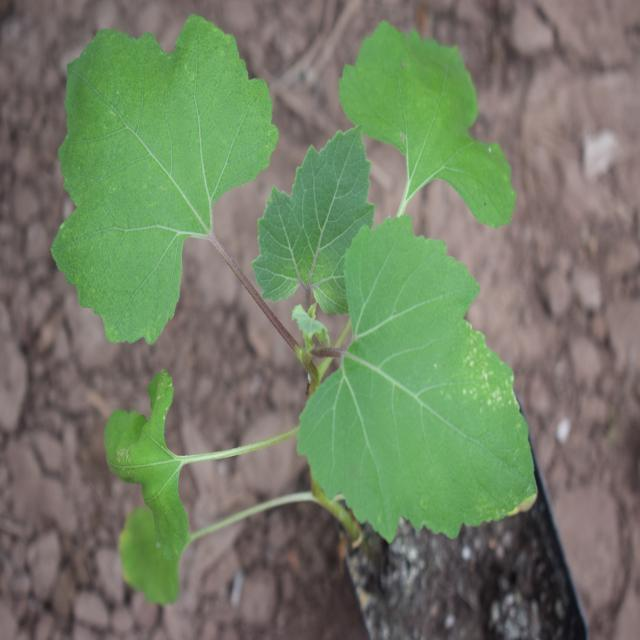cocklebur: (60, 1, 528, 531)
